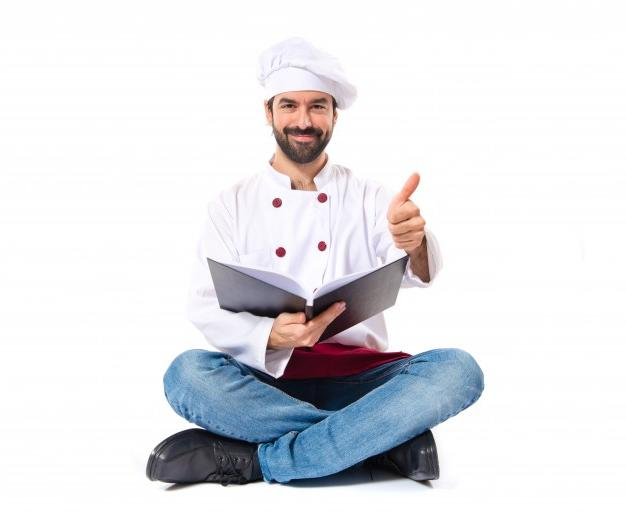thumbsup: (387, 171, 427, 250)
